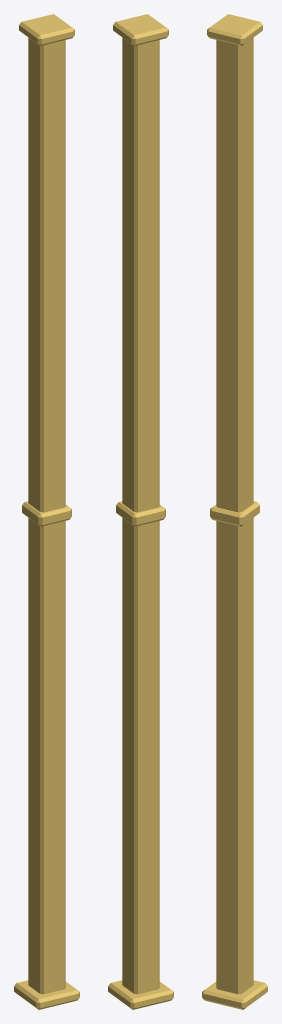
The model's file is SM_Post_0p25x9p05x0p25.glb.
The picture shows the model from 3 angles, left to right: view 1: azimuth 30°, elevation 25°; view 2: azimuth 210°, elevation 25°; view 3: azimuth 330°, elevation 25°; orthographic projection.
Parts seen in each view (by area): view 1: SM_Post_0p25x9p05x0p25; view 2: SM_Post_0p25x9p05x0p25; view 3: SM_Post_0p25x9p05x0p25.
Boxes of the visible parts, <box> form: SM_Post_0p25x9p05x0p25: <box>14,14,79,1009</box>; SM_Post_0p25x9p05x0p25: <box>108,14,173,1009</box>; SM_Post_0p25x9p05x0p25: <box>202,14,267,1009</box>.
Bounding box in the file's own units: 0.425 × 9.05 × 0.425.
